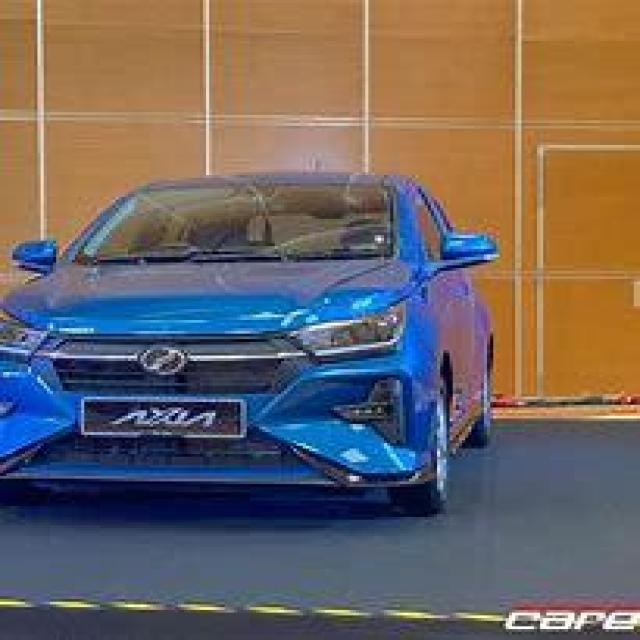PeroduaAxia: (0, 169, 500, 518)
